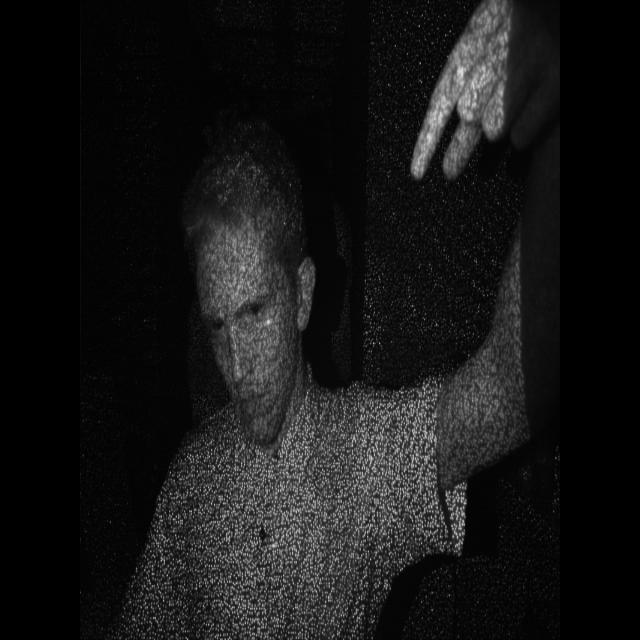Q: (399, 0, 518, 198)
